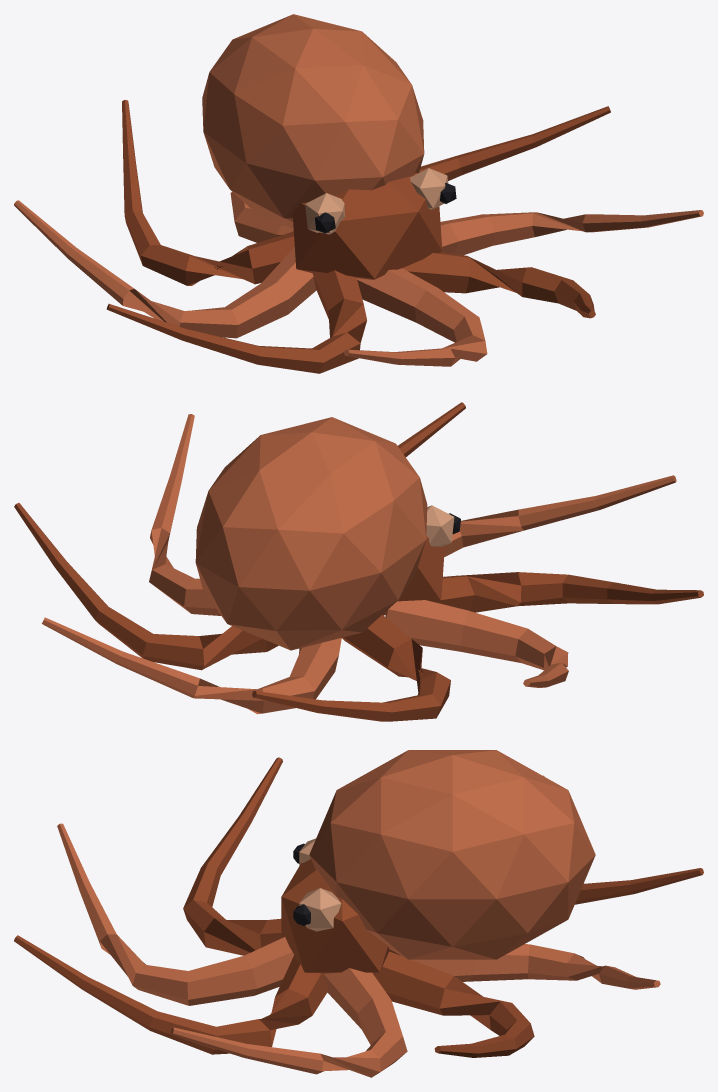
The model's file is Octopus.glb.
3 renders of one model, top to bottom at view 1: azimuth 30°, elevation 25°; view 2: azimuth 150°, elevation 25°; view 3: azimuth 270°, elevation 25°, orthographic. The views are drawn at different scales.
Parts seen in each view (by area): view 1: Octopus; view 2: Octopus; view 3: Octopus.
Part boxes in pixels (x1,y1,x2,y2): Octopus: (14,14,703,373); Octopus: (14,402,703,721); Octopus: (14,750,703,1077).
Size of the model in its own units: 1.25 by 0.4729 by 1.25.
